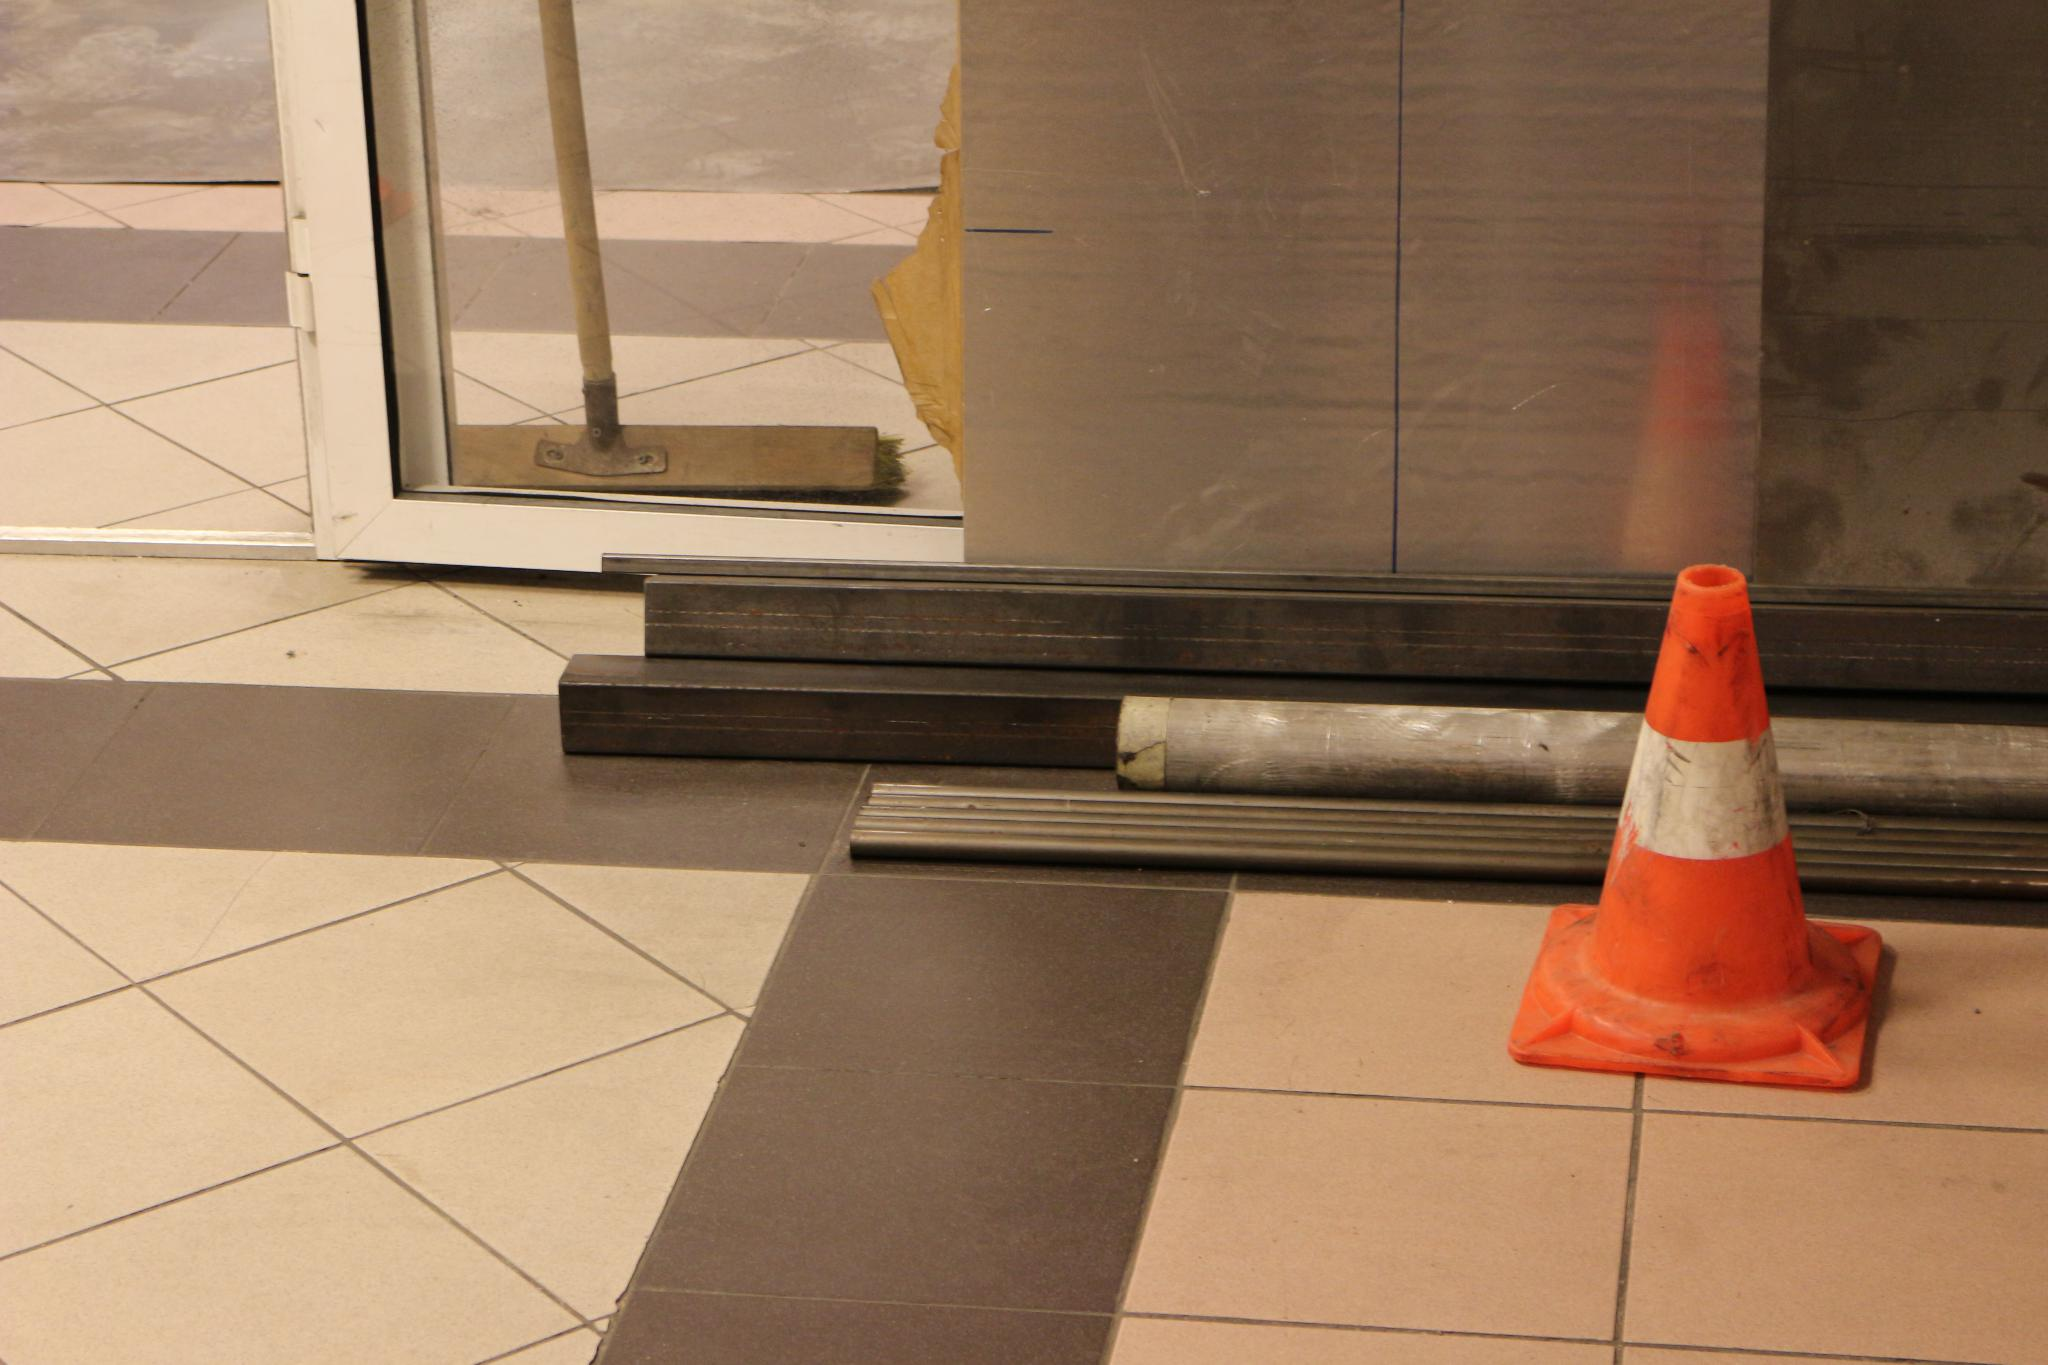Orange_Cone: (1504, 559, 1903, 1065)
